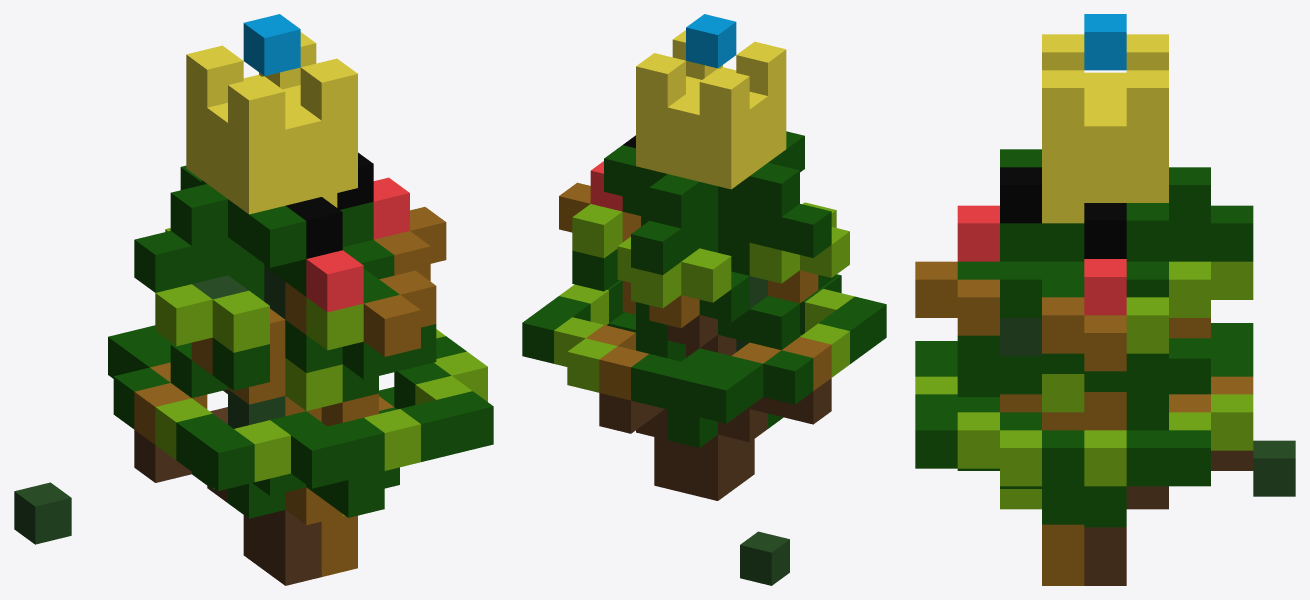
Rendered from Maicol_Stiven_Torres_Rivas_fase_2.obj.
The picture shows the model from 3 angles, left to right: view 1: azimuth 30°, elevation 25°; view 2: azimuth 150°, elevation 25°; view 3: azimuth 270°, elevation 25°; orthographic projection. The views are drawn at different scales.
Parts seen in each view (by area): view 1: Maicol_Stiven_Torres_Rivas_fase_2; view 2: Maicol_Stiven_Torres_Rivas_fase_2; view 3: Maicol_Stiven_Torres_Rivas_fase_2.
Part boxes in pixels (x1,y1,x2,y2): Maicol_Stiven_Torres_Rivas_fase_2: (14, 14, 493, 585); Maicol_Stiven_Torres_Rivas_fase_2: (522, 14, 886, 585); Maicol_Stiven_Torres_Rivas_fase_2: (915, 14, 1295, 585).
Bounding box in the file's own units: 9 × 14 × 9.
Materials: 1 (1 with a texture image).
